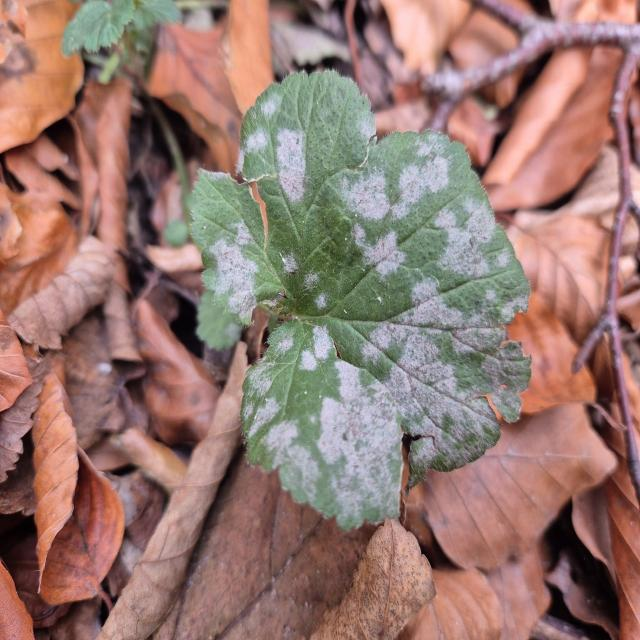powdery_mildew: (193, 71, 530, 529)
